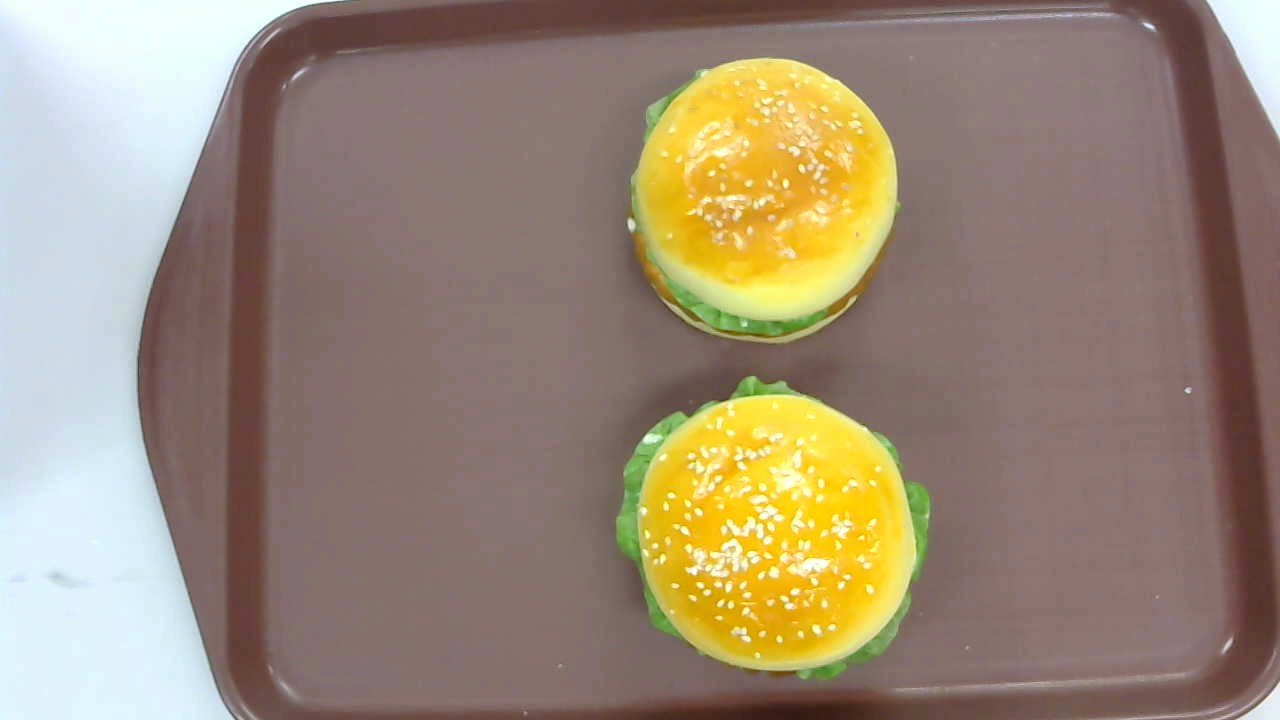hamburger: (615, 376, 930, 683), (626, 59, 897, 347)
